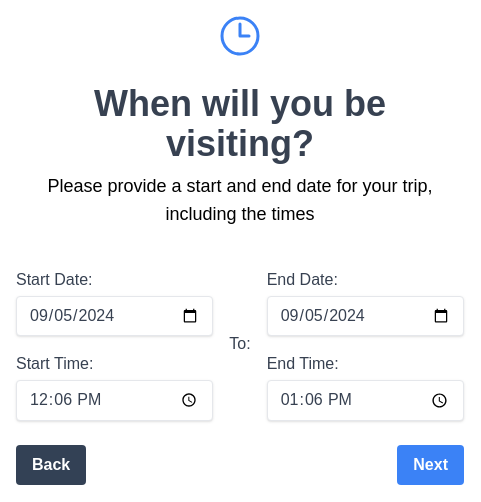
DateTimeInput › user interaction › changing end time to before start time updates start time
The image size is (481, 502).
// Change end time to 11:00 (before the current start time of 12:06)
Replace the text in the time field labelled "End Time:" with "11:00". click: (365,400)
box: x1=267 y1=380 x2=464 y2=421
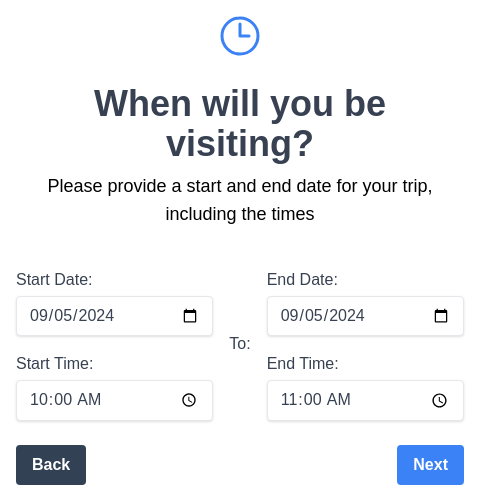
expect the time field labelled "Start Time:" holds "10:00": met, box x1=16 y1=380 x2=213 y2=421
